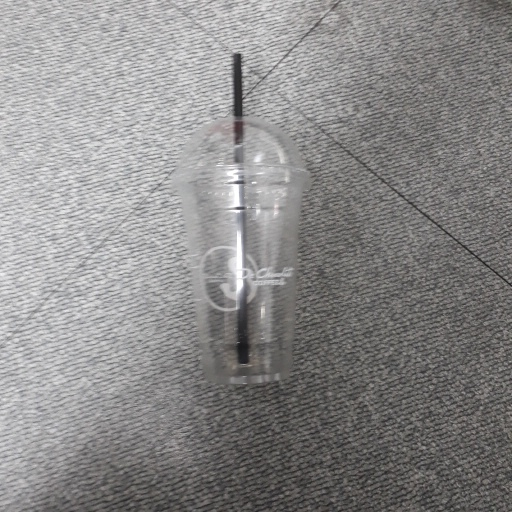Plastic_2: (174, 53, 313, 387)
